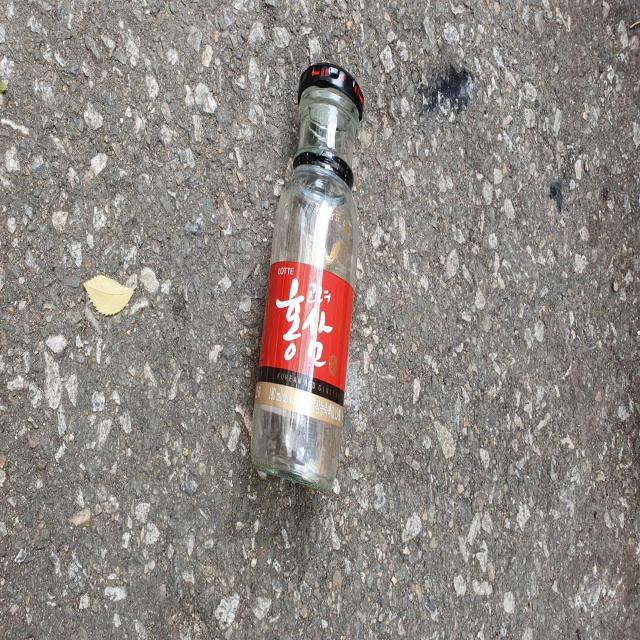glass: (251, 60, 364, 490)
